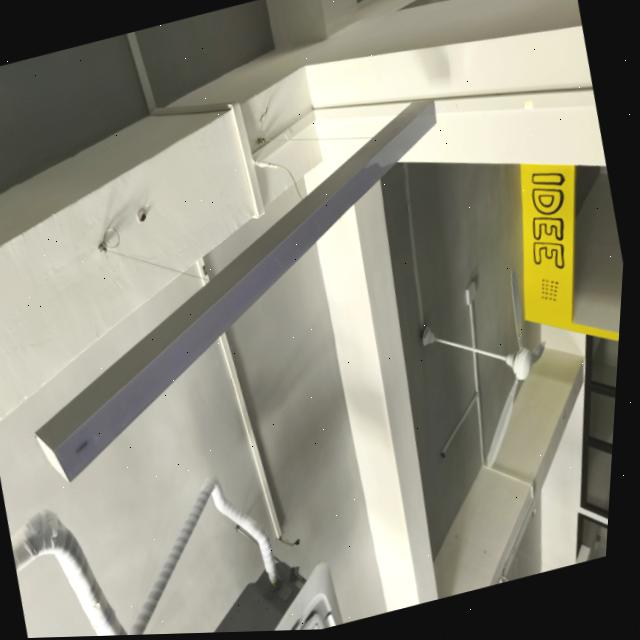light_off: (0, 89, 510, 500)
